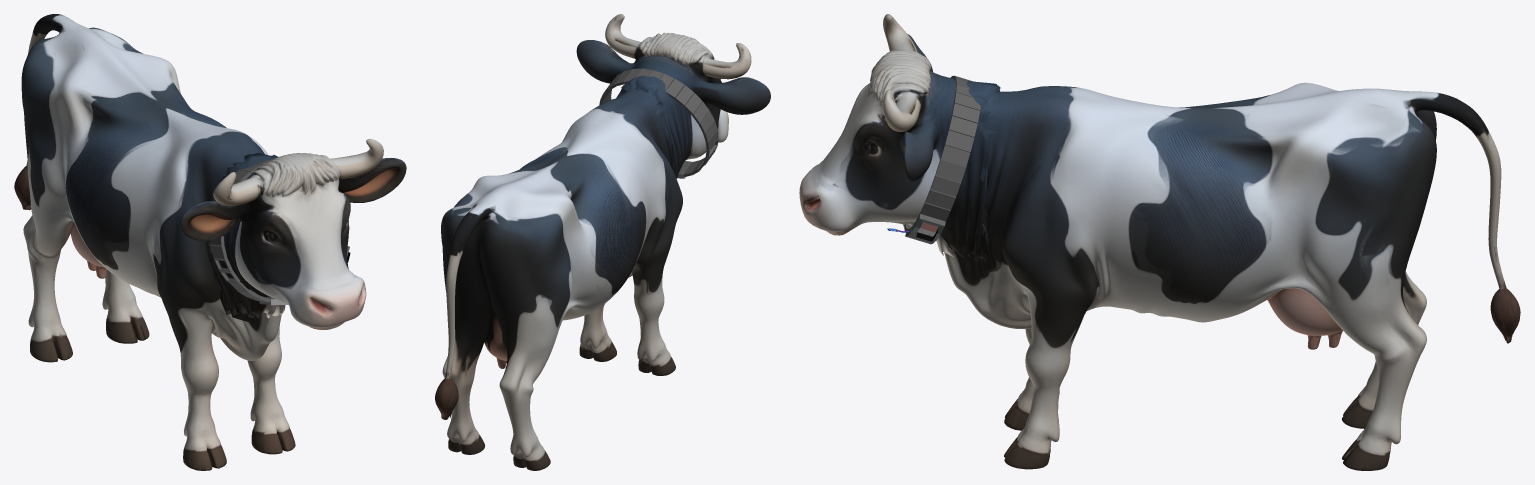
Rendered from Sapi IFLC.glb.
The picture shows the model from 3 angles, left to right: view 1: azimuth 30°, elevation 25°; view 2: azimuth 150°, elevation 25°; view 3: azimuth 270°, elevation 25°; orthographic projection. The views are drawn at different scales.
Visible parts, largest first — view 1: node_0, Elbow Joint.007; view 2: node_0, Elbow Joint.007; view 3: node_0, Elbow Joint.007.
Boxes of the visible parts, x1=… form: node_0: x1=14, y1=14, x2=406, y2=470; Elbow Joint.007: x1=210, y1=159, x2=350, y2=305; node_0: x1=435, y1=14, x2=770, y2=470; Elbow Joint.007: x1=599, y1=68, x2=718, y2=178; node_0: x1=799, y1=14, x2=1520, y2=470; Elbow Joint.007: x1=887, y1=75, x2=980, y2=244.
Size of the model in its own units: 7.25 by 10.53 by 17.71.
18 materials, 1 textured.
